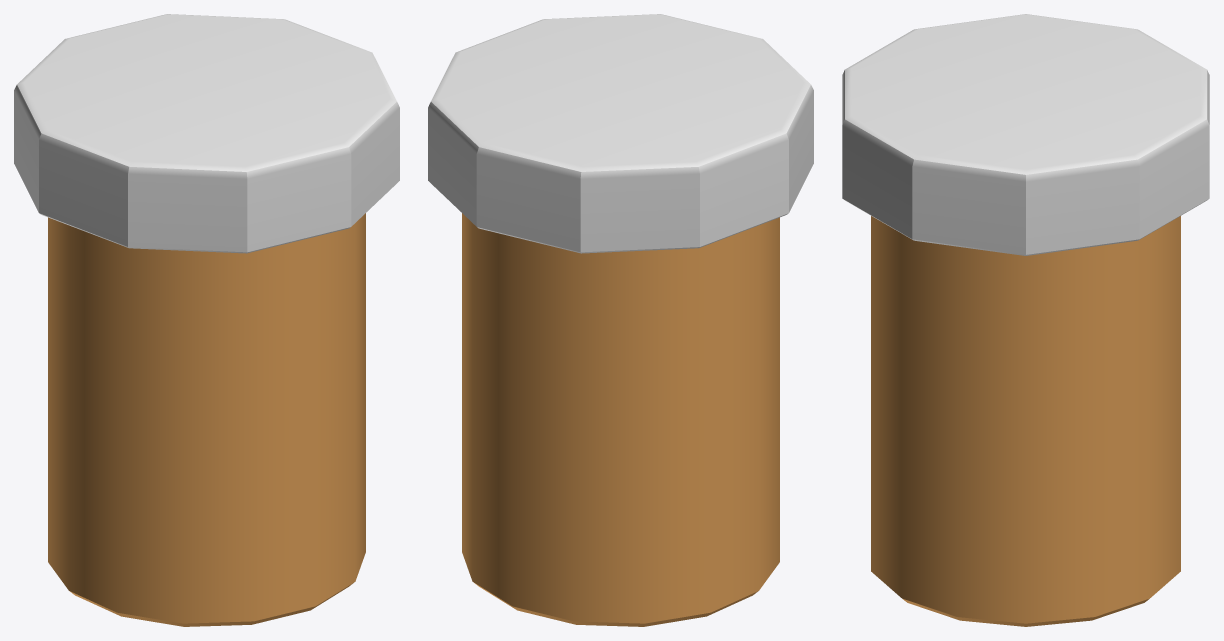
Rendered from SM_BottlesOfPills_1.fbx.
3 views of the same model, side by side, from view 1: azimuth 30°, elevation 25°; view 2: azimuth 150°, elevation 25°; view 3: azimuth 270°, elevation 25° (orthographic).
Visible parts, largest first — view 1: BodyBottlePills, BottleCap; view 2: BodyBottlePills, BottleCap; view 3: BodyBottlePills, BottleCap.
Part boxes in pixels (left/top/right/bottom): BodyBottlePills: left=48, top=213, right=365, bottom=626; BottleCap: left=14, top=14, right=399, bottom=253; BodyBottlePills: left=462, top=213, right=779, bottom=626; BottleCap: left=428, top=14, right=813, bottom=253; BodyBottlePills: left=871, top=216, right=1180, bottom=626; BottleCap: left=842, top=14, right=1209, bottom=255.
Size of the model in its own units: 3.68 by 4.94 by 3.5.
